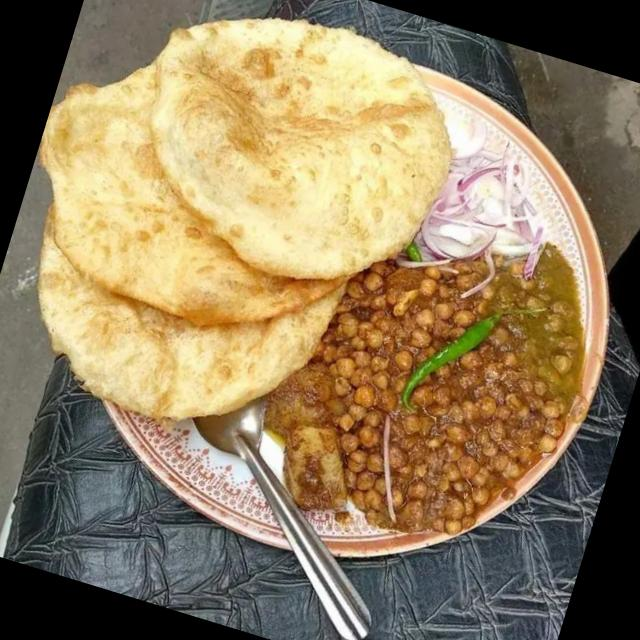Bhatura: (0, 0, 481, 481)
Chole: (280, 194, 618, 571)
